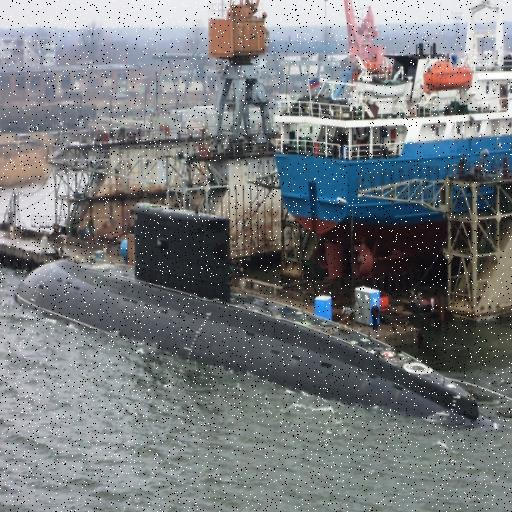submarine: (1, 203, 495, 430)
